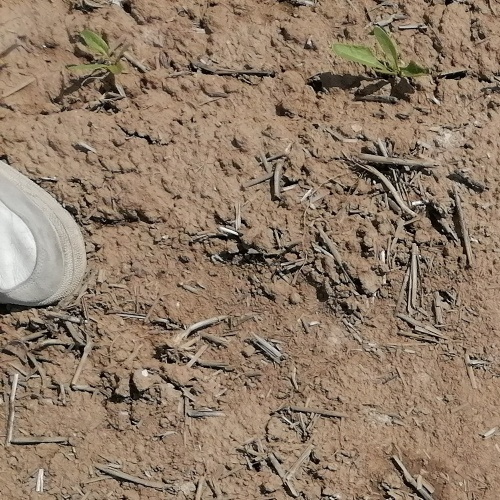beet: (333, 26, 434, 78), (69, 26, 127, 78)
